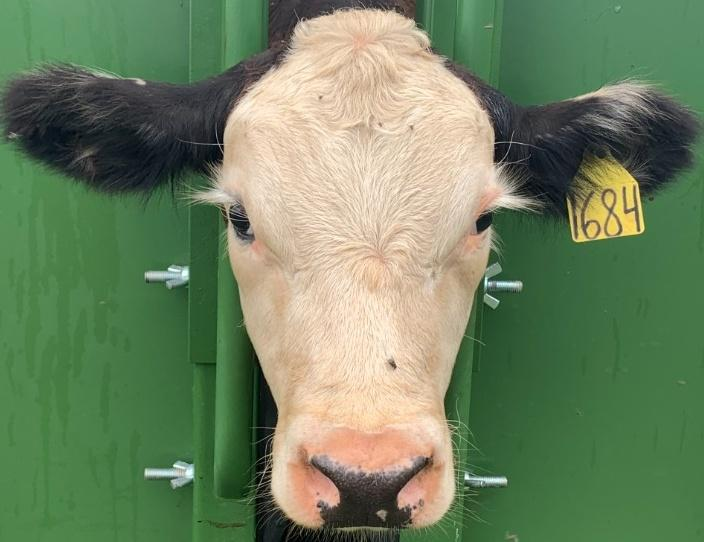muzzles: (263, 417, 470, 538)
